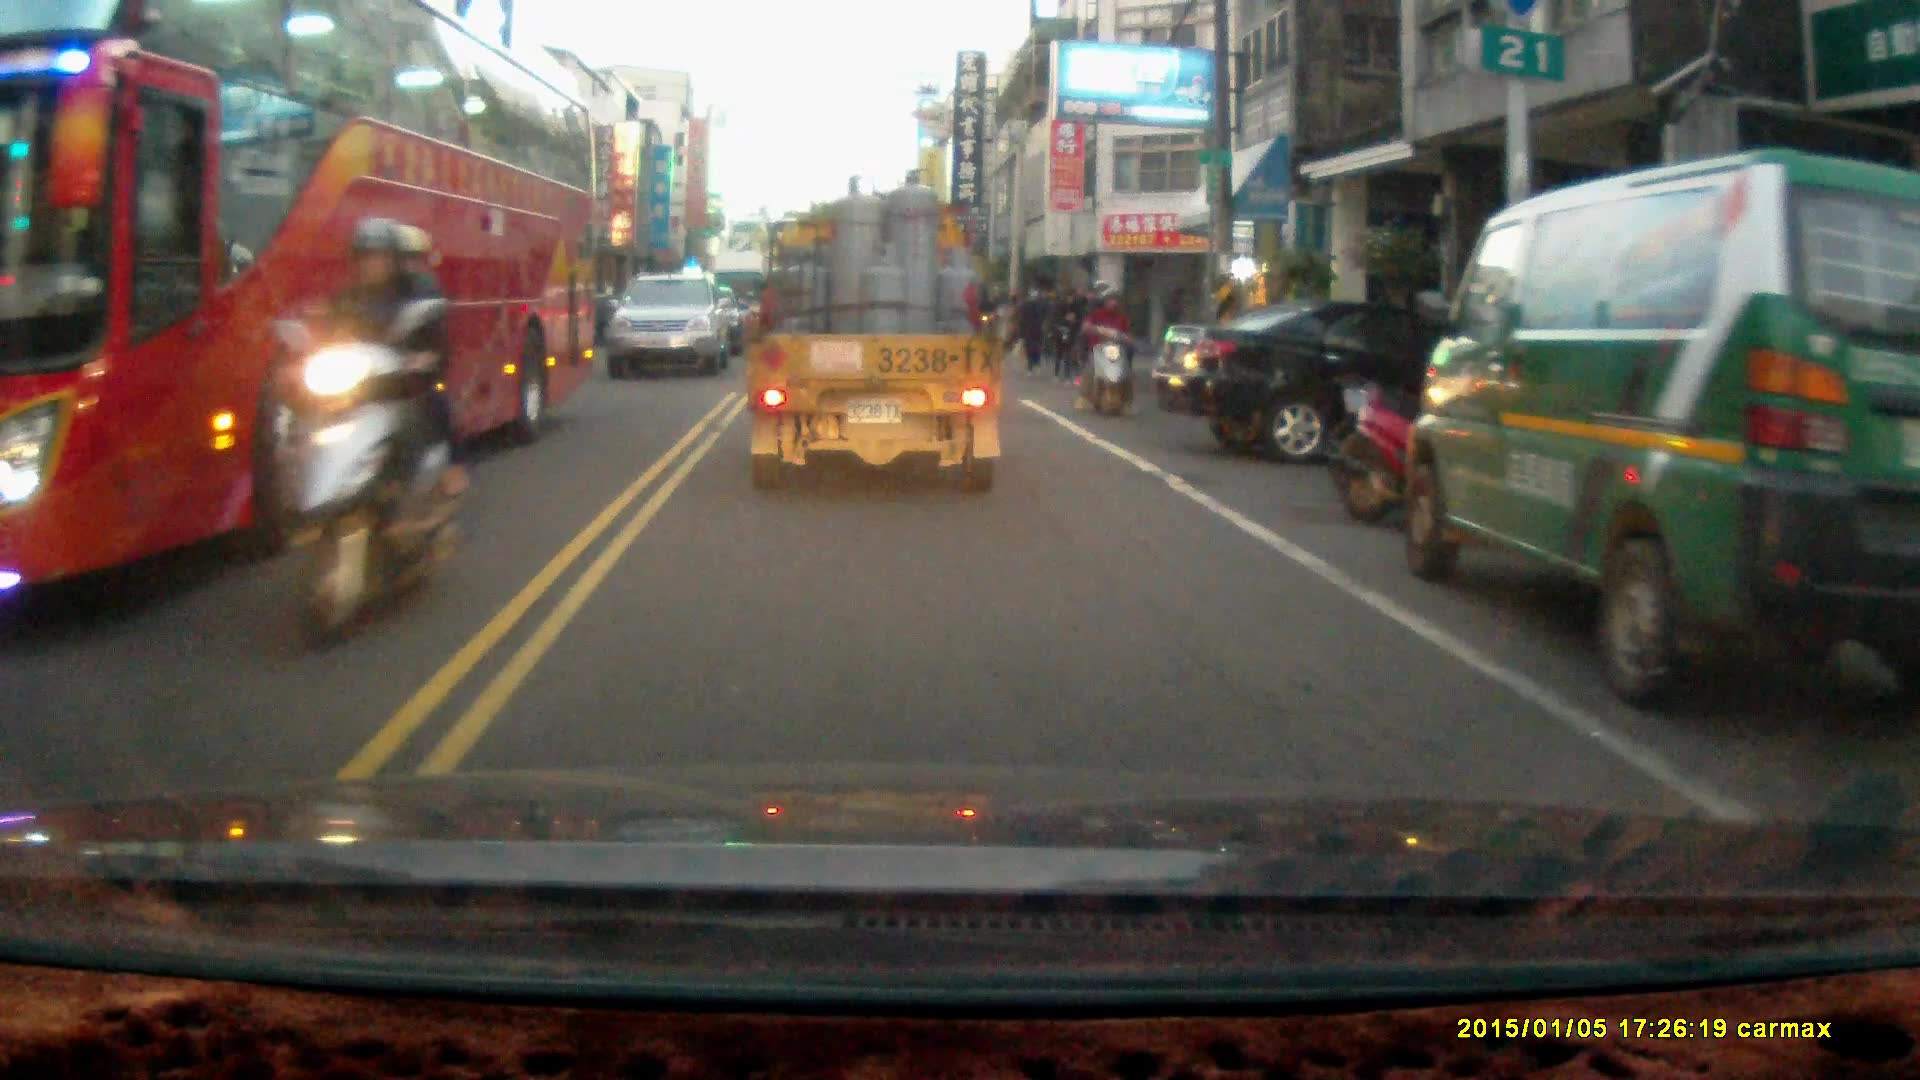pedestrian: (1051, 287, 1082, 384), (1018, 286, 1052, 369)
rider: (266, 215, 472, 652), (1080, 277, 1142, 420)
vehicle: (1, 7, 609, 602), (1409, 145, 1920, 712), (744, 168, 1008, 493), (1166, 298, 1484, 469), (607, 274, 734, 381)
